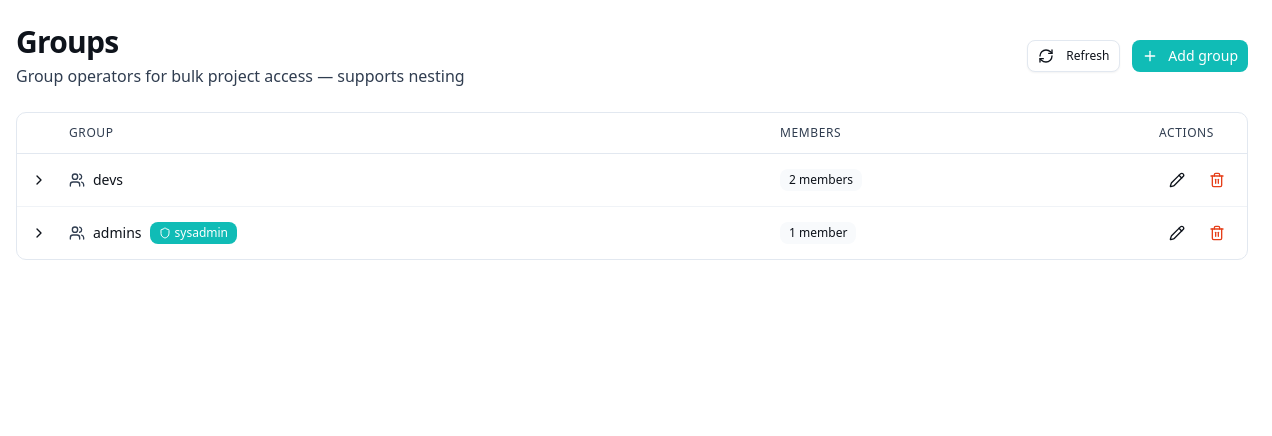
Test case: <GroupsDashboard> on the shared scaffold › expands a row and reports member-load failure through the SHARED toast
The width and height of the screenshot is (1272, 436).
Expected: the heading "Groups" is shown, left=16, top=21, right=118, bottom=62
Click the button named "Expand devs" at (39, 180), box left=25, top=166, right=53, bottom=194
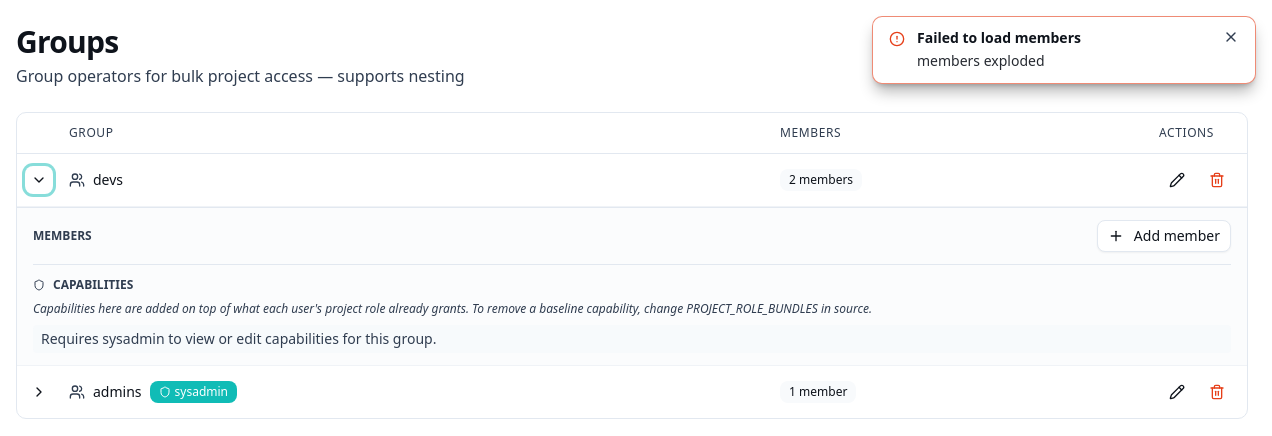
Result: the row that starts with "Members" is shown at left=17, top=206, right=1247, bottom=365
Result: the text "members exploded" is shown at left=917, top=50, right=1044, bottom=70
Result: the text "Failed to load members" is shown at left=917, top=28, right=1081, bottom=47
